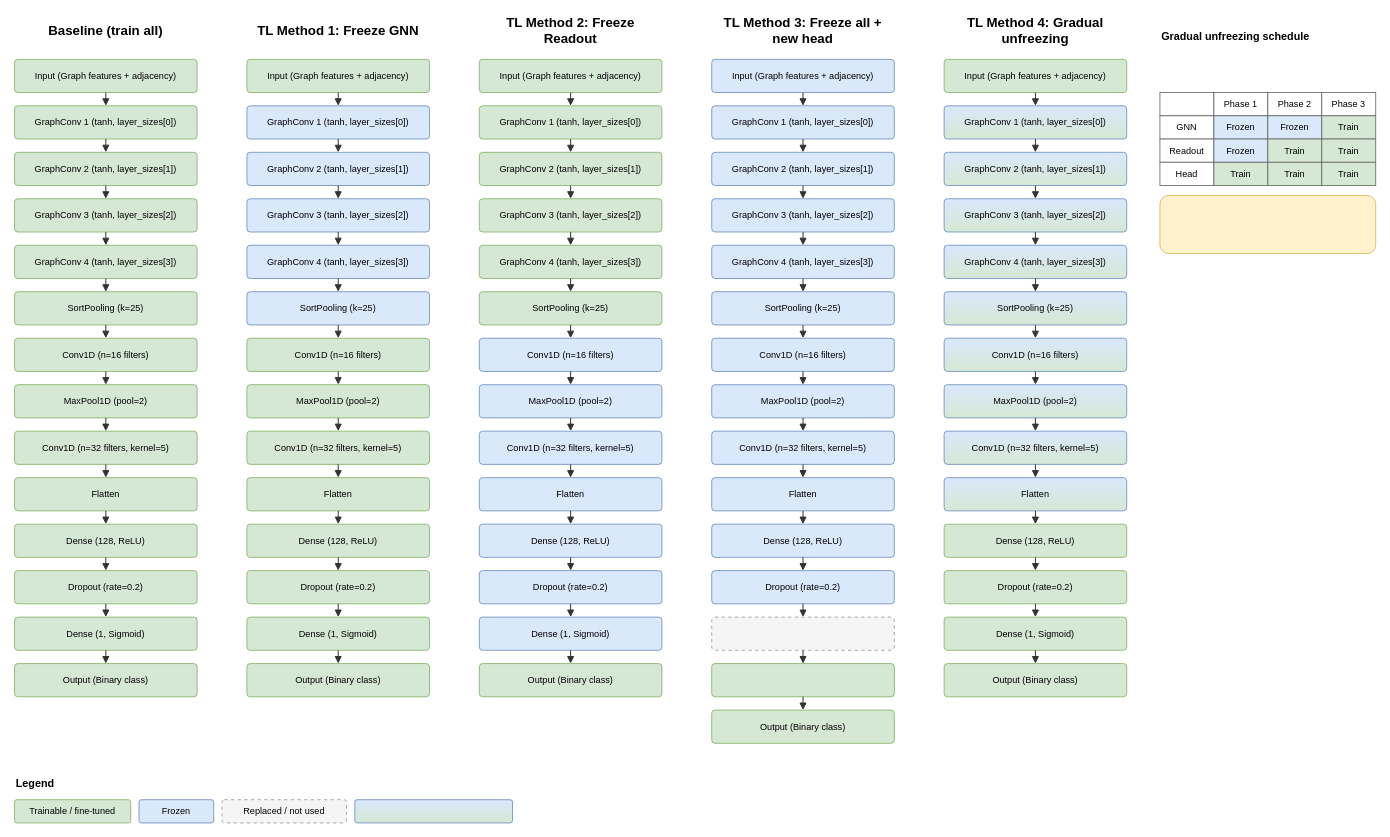
This 1390x837 diagram has some shape labels left out. The centre of each missing label's shape, as x and y in pixels:
Dense (1, Sigmoid) — OLD (replaced): (x=802, y=633)
Gradual unfreeze (blue→green): (x=433, y=811)
LRs: Phase 1: 1e-3 Phase 2: 1e-4 Phase 3: 1e-5: (x=1267, y=224)
NEW Dense (1, Sigmoid): (x=802, y=680)
